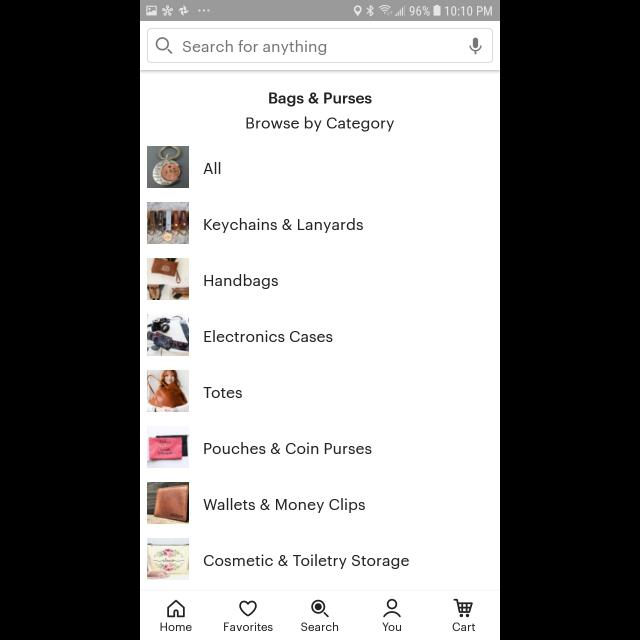icon: (454, 598, 474, 618), (383, 598, 401, 618), (168, 600, 186, 618), (311, 599, 329, 617), (239, 600, 257, 616), (156, 37, 172, 54), (470, 37, 482, 54)
image: (147, 147, 189, 189), (147, 202, 189, 244), (147, 258, 189, 300), (147, 314, 189, 356), (147, 371, 189, 413), (147, 427, 189, 469), (147, 482, 189, 524), (147, 538, 189, 580)
input: (147, 28, 493, 64)
text: (204, 554, 410, 570), (203, 498, 365, 514), (204, 218, 364, 234), (246, 116, 394, 132), (183, 40, 327, 56), (204, 442, 372, 454), (268, 92, 372, 108), (205, 330, 333, 342), (205, 274, 279, 290), (224, 622, 272, 632), (204, 386, 242, 398), (301, 621, 339, 631), (160, 622, 192, 632), (452, 622, 476, 632), (203, 162, 220, 174), (382, 622, 402, 632)
uppertaskbar: (140, 1, 500, 22)
